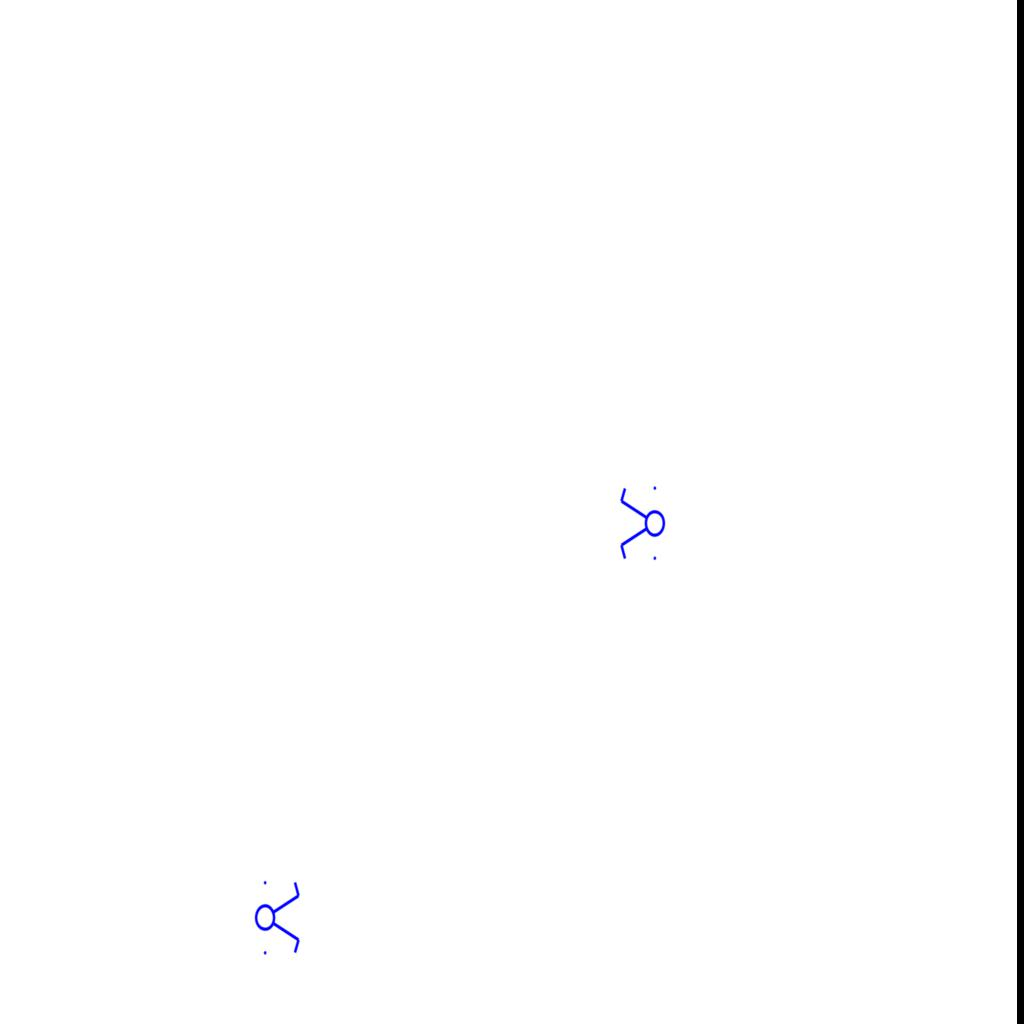Serienschalter: (618, 482, 666, 566), (254, 875, 302, 959)
